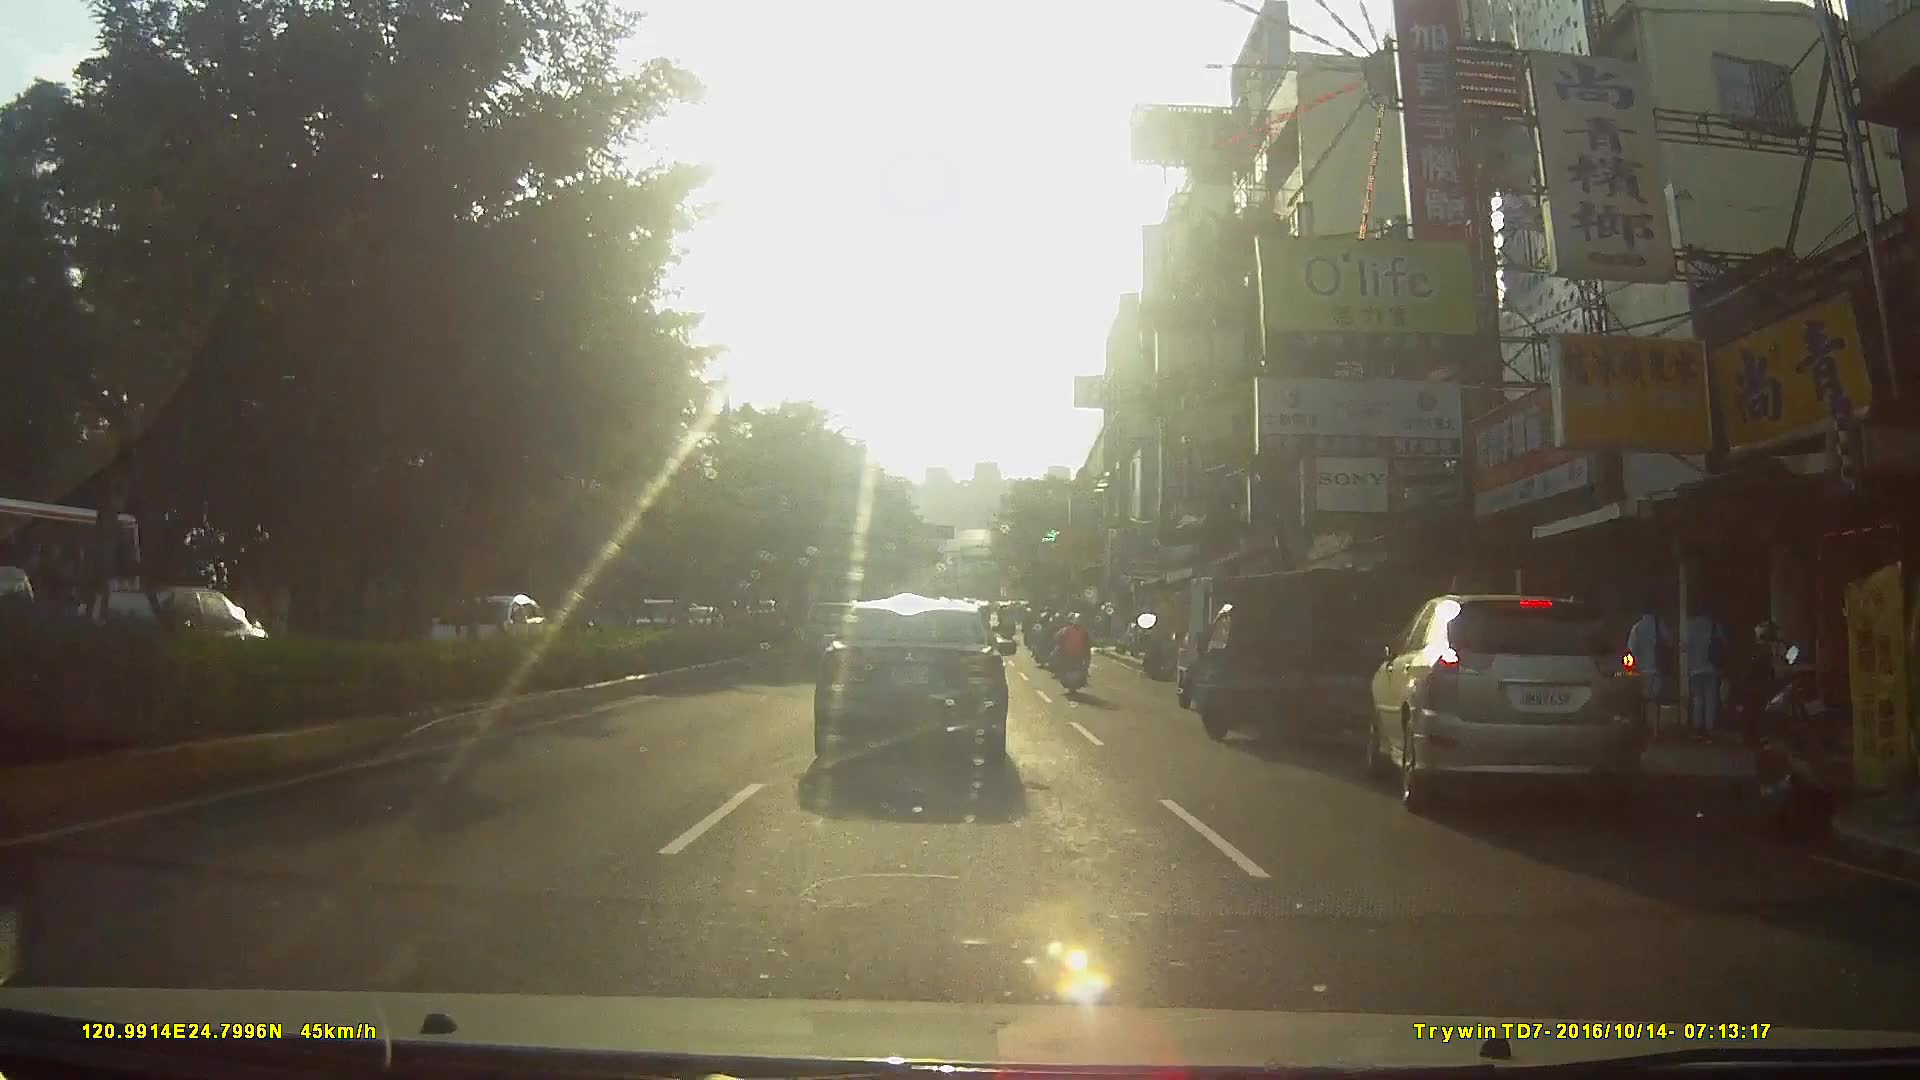pedestrian: (1628, 593, 1686, 746), (1677, 593, 1734, 743)
rider: (1048, 608, 1089, 698), (1029, 609, 1055, 665)
vehicle: (1366, 580, 1669, 837), (1177, 559, 1411, 763), (809, 591, 1028, 778), (1, 496, 154, 680), (426, 593, 550, 666)
